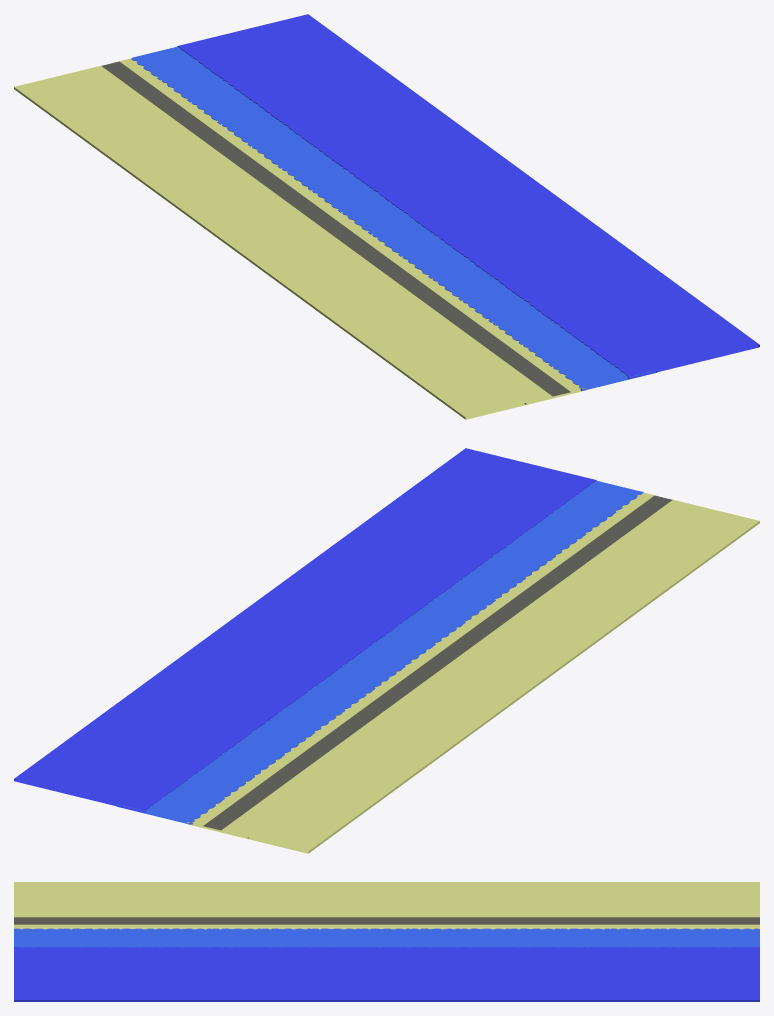
The model's file is playa.fbx.
3 views of the same model, one above another, from view 1: azimuth 30°, elevation 25°; view 2: azimuth 150°, elevation 25°; view 3: azimuth 270°, elevation 25° (orthographic). The views are drawn at different scales.
Parts seen in each view (by area): view 1: playa; view 2: playa; view 3: playa.
Boxes of the visible parts, <box> form: playa: <box>14,14,759,419</box>; playa: <box>14,448,759,853</box>; playa: <box>14,882,759,1001</box>.
Bounding box in the file's own units: 27774 × 291 × 73870.
